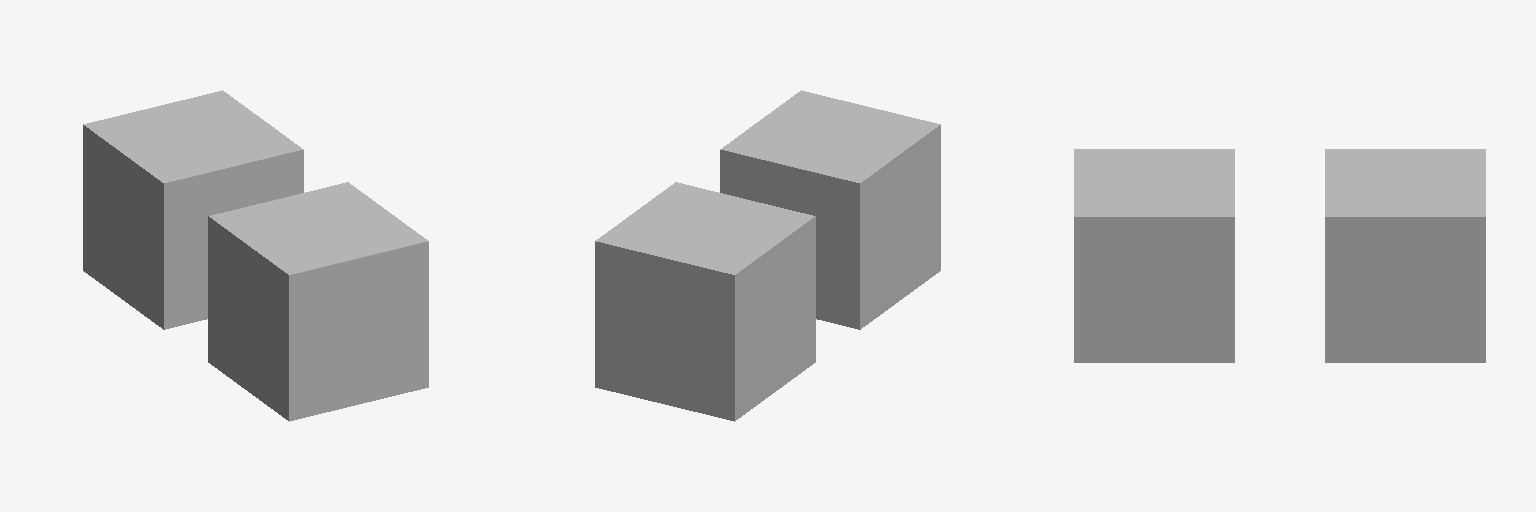
File: Cubes.obj
3 views of the same model, side by side, from view 1: azimuth 30°, elevation 25°; view 2: azimuth 150°, elevation 25°; view 3: azimuth 270°, elevation 25° (orthographic).
Visible parts, largest first — view 1: Cube, Cube.001; view 2: Cube.001, Cube; view 3: Cube, Cube.001.
Part boxes in pixels (bbox=[...]): Cube: bbox=[208, 182, 428, 421]; Cube.001: bbox=[83, 90, 303, 329]; Cube.001: bbox=[595, 182, 815, 421]; Cube: bbox=[720, 90, 940, 329]; Cube: bbox=[1074, 149, 1234, 362]; Cube.001: bbox=[1325, 149, 1485, 362].
Bounding box in the file's own units: 2 × 2 × 5.1.